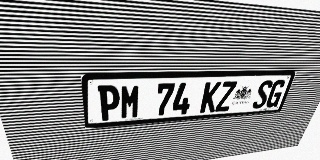4: (172, 82, 194, 115)
7: (154, 83, 175, 117)
G: (264, 80, 287, 108)
K: (199, 82, 222, 113)
M: (120, 84, 141, 119)
P: (98, 85, 120, 121)
S: (251, 80, 274, 109)
Z: (215, 81, 237, 112)
